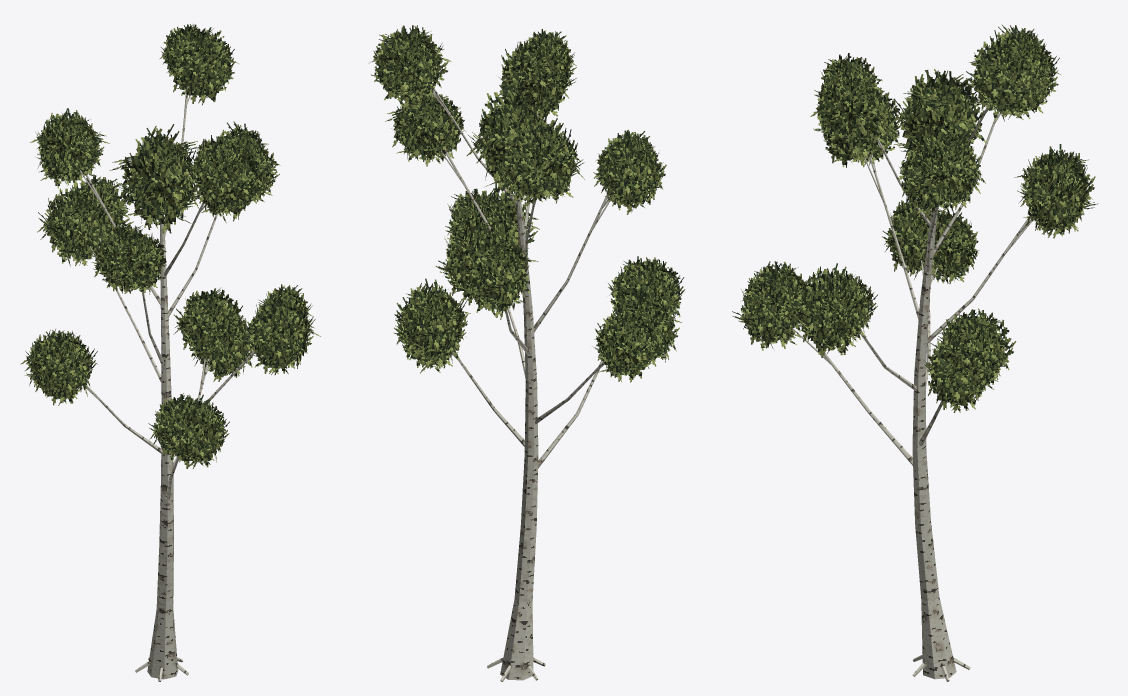
Rendered from TREE_Birch_Green_B.glb.
3 renders of one model, left to right at view 1: azimuth 30°, elevation 25°; view 2: azimuth 150°, elevation 25°; view 3: azimuth 270°, elevation 25°, orthographic. The views are drawn at different scales.
Visible parts, largest first — view 1: TREE_Birch_Green_B__Card, TREE_Birch_Green_B__Bark; view 2: TREE_Birch_Green_B__Card, TREE_Birch_Green_B__Bark; view 3: TREE_Birch_Green_B__Card, TREE_Birch_Green_B__Bark.
Boxes of the visible parts, x1,y1,x2,y2 form: TREE_Birch_Green_B__Card: [20, 24, 320, 468]; TREE_Birch_Green_B__Bark: [80, 86, 264, 681]; TREE_Birch_Green_B__Card: [368, 25, 685, 382]; TREE_Birch_Green_B__Bark: [428, 86, 612, 681]; TREE_Birch_Green_B__Card: [732, 24, 1098, 412]; TREE_Birch_Green_B__Bark: [792, 104, 1034, 681].
Bounding box in the file's own units: 6.02 × 13.22 × 6.9.
3 materials, 3 textured.
